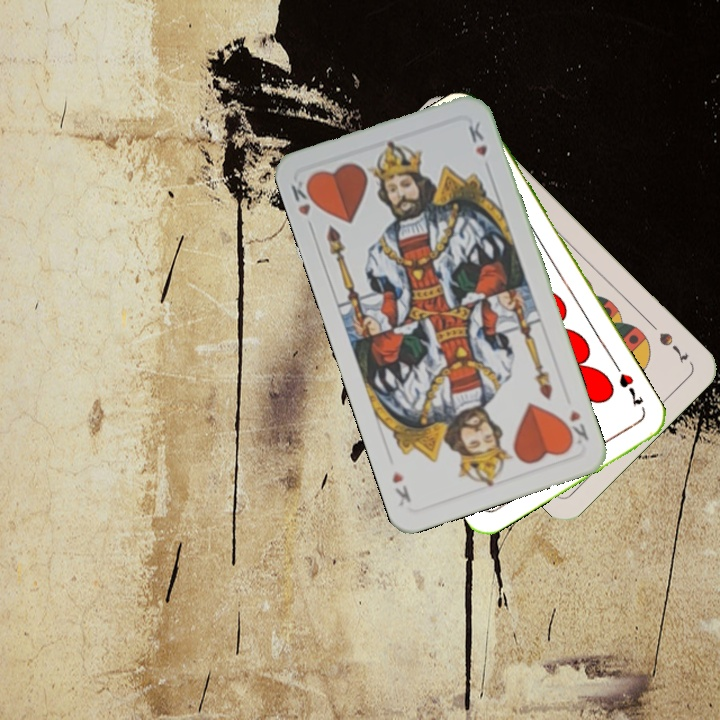H7: (615, 369, 646, 408)
HK: (287, 175, 321, 234), (559, 405, 592, 451)
S7: (654, 328, 691, 366)
